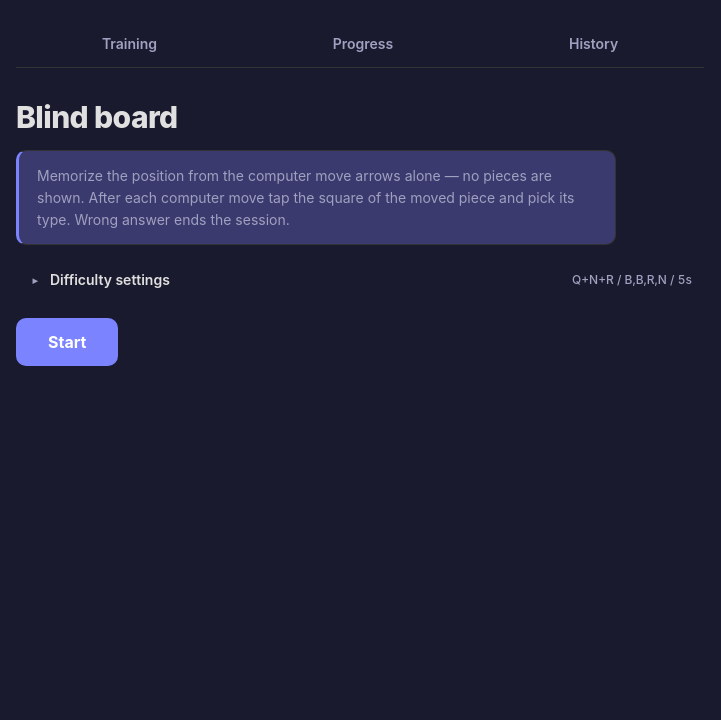
Test: <BlindBoardLandingPage> KS-3488 › Restore defaults → конфиг возвращается к DEFAULT
The width and height of the screenshot is (721, 720).
What coordinates should you click on to do the following:
click the button with test id "blind-board-settings-toggle"
I would click on:
 (110, 280)
Its box is [16,261,704,298].
(page scrolled)
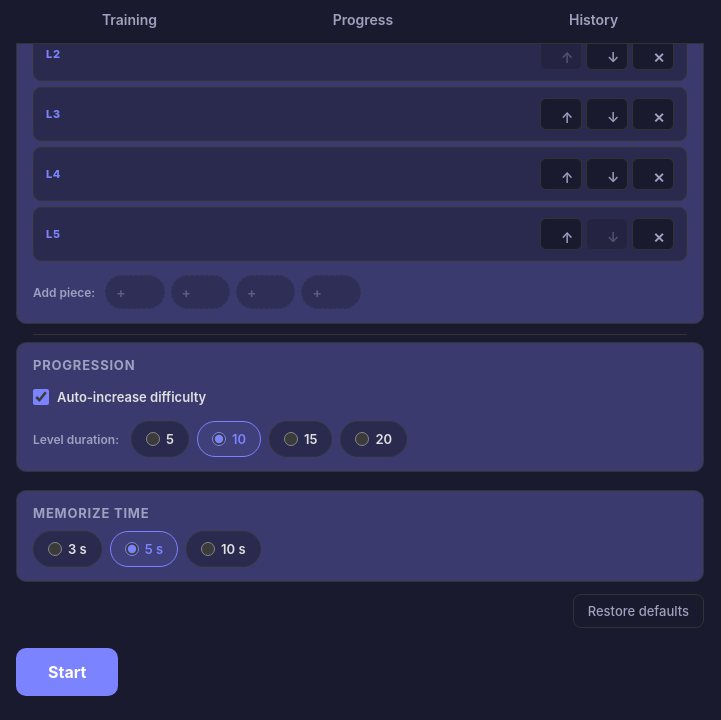
What coordinates should you click on to do the following:
click the radio button labelled "10 s"
I would click on:
 (208, 549)
Its box is [201,542,215,556].
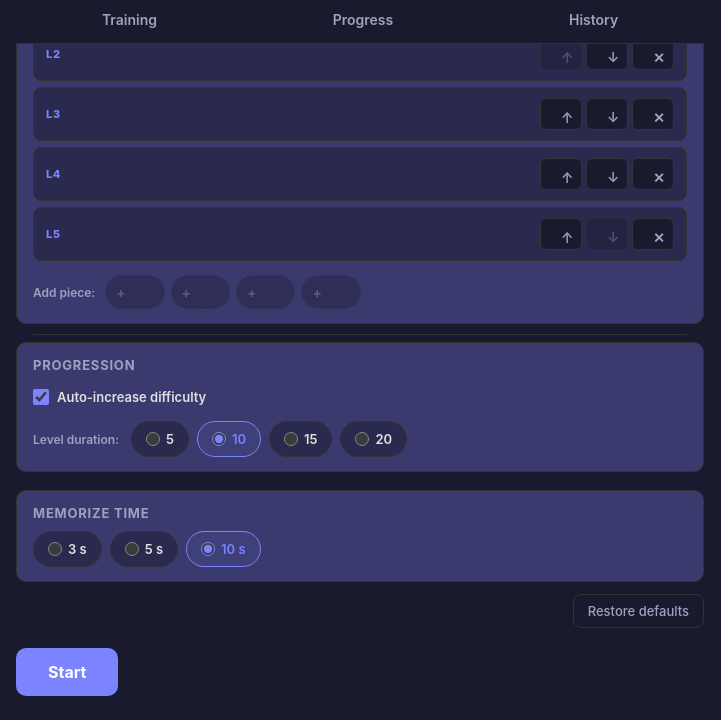
What coordinates should you click on to do the following:
click the button with test id "blind-board-settings-restore"
I would click on:
 (638, 611)
Its box is [573,594,704,628].
(page scrolled)
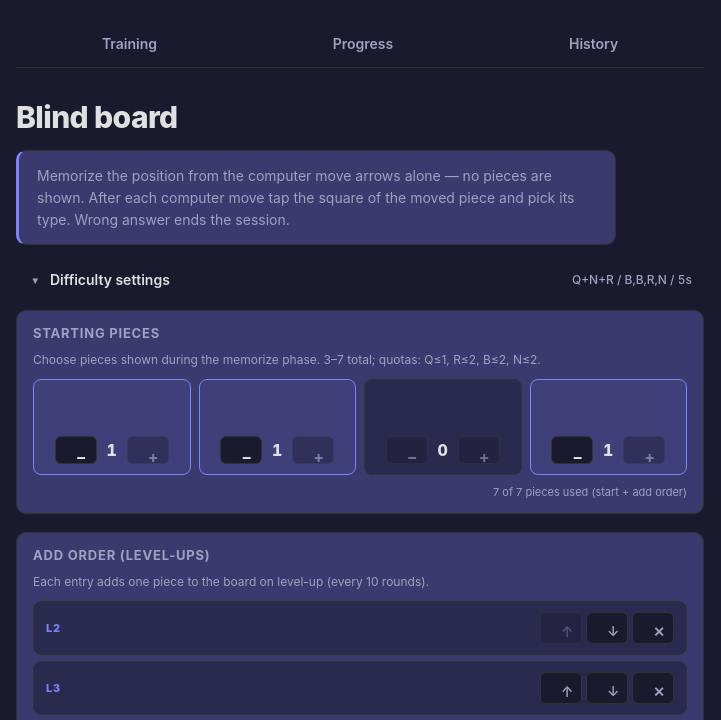
Check: the text with test id "blind-board-settings-summary" shows "5s", box [572,272,692,287]
